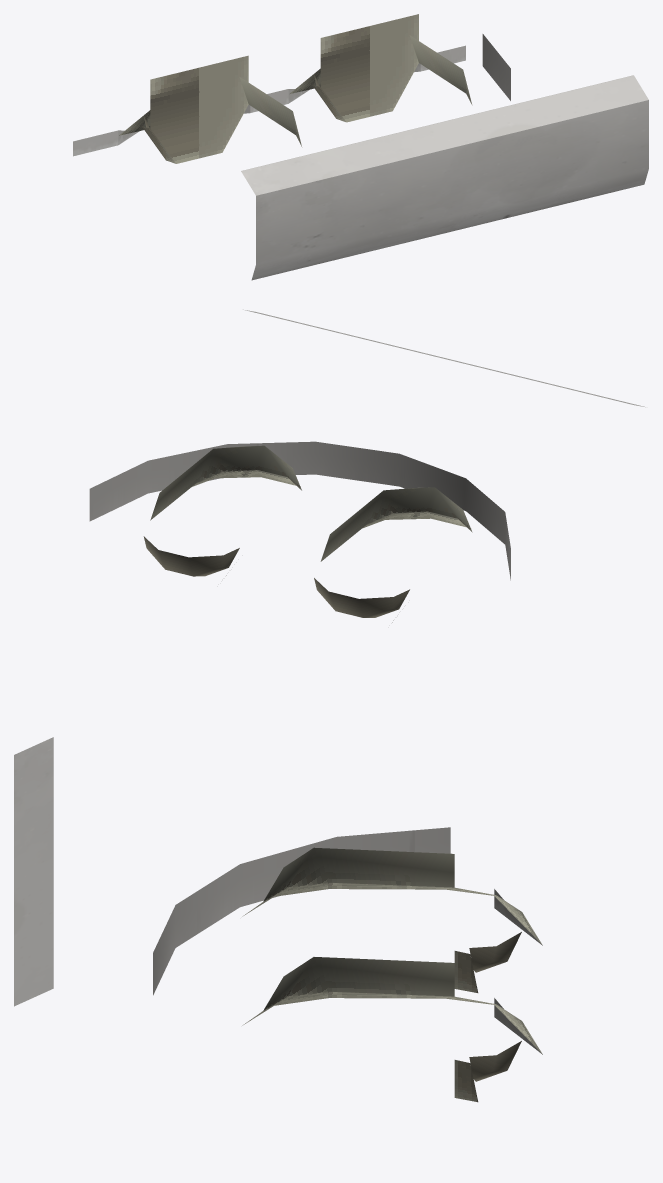
The model's file is brazier_x3.glb.
3 renders of one model, top to bottom at view 1: azimuth 30°, elevation 25°; view 2: azimuth 150°, elevation 25°; view 3: azimuth 270°, elevation 25°, orthographic. The views are drawn at different scales.
Parts seen in each view (by area): view 1: wall.brazier_x3-MeshNodes["wall_arch_Three_brazier_top"], wall.brazier_x3-MeshNodes["wall_arch_Three_brazier_alcove"], wall.brazier_x3-MeshNodes["wall_arch_Three_brazier"]; view 2: wall.brazier_x3-MeshNodes["wall_arch_Three_brazier_top"], wall.brazier_x3-MeshNodes["wall_arch_Three_brazier_alcove"]; view 3: wall.brazier_x3-MeshNodes["wall_arch_Three_brazier_alcove"], wall.brazier_x3-MeshNodes["wall_arch_Three_brazier_top"], wall.brazier_x3-MeshNodes["wall_arch_Three_brazier"].
Boxes of the visible parts, x1,y1,x2,y2 form: wall.brazier_x3-MeshNodes["wall_arch_Three_brazier_top"]: [241, 34, 648, 280]; wall.brazier_x3-MeshNodes["wall_arch_Three_brazier_alcove"]: [119, 14, 472, 163]; wall.brazier_x3-MeshNodes["wall_arch_Three_brazier"]: [73, 45, 465, 156]; wall.brazier_x3-MeshNodes["wall_arch_Three_brazier_top"]: [89, 309, 645, 580]; wall.brazier_x3-MeshNodes["wall_arch_Three_brazier_alcove"]: [143, 445, 472, 622]; wall.brazier_x3-MeshNodes["wall_arch_Three_brazier_alcove"]: [242, 847, 542, 1102]; wall.brazier_x3-MeshNodes["wall_arch_Three_brazier_top"]: [14, 737, 450, 1006]; wall.brazier_x3-MeshNodes["wall_arch_Three_brazier"]: [494, 889, 542, 1054].
Bounding box in the file's own units: 3.7 × 1 × 3.2.
4 materials, 4 textured.
